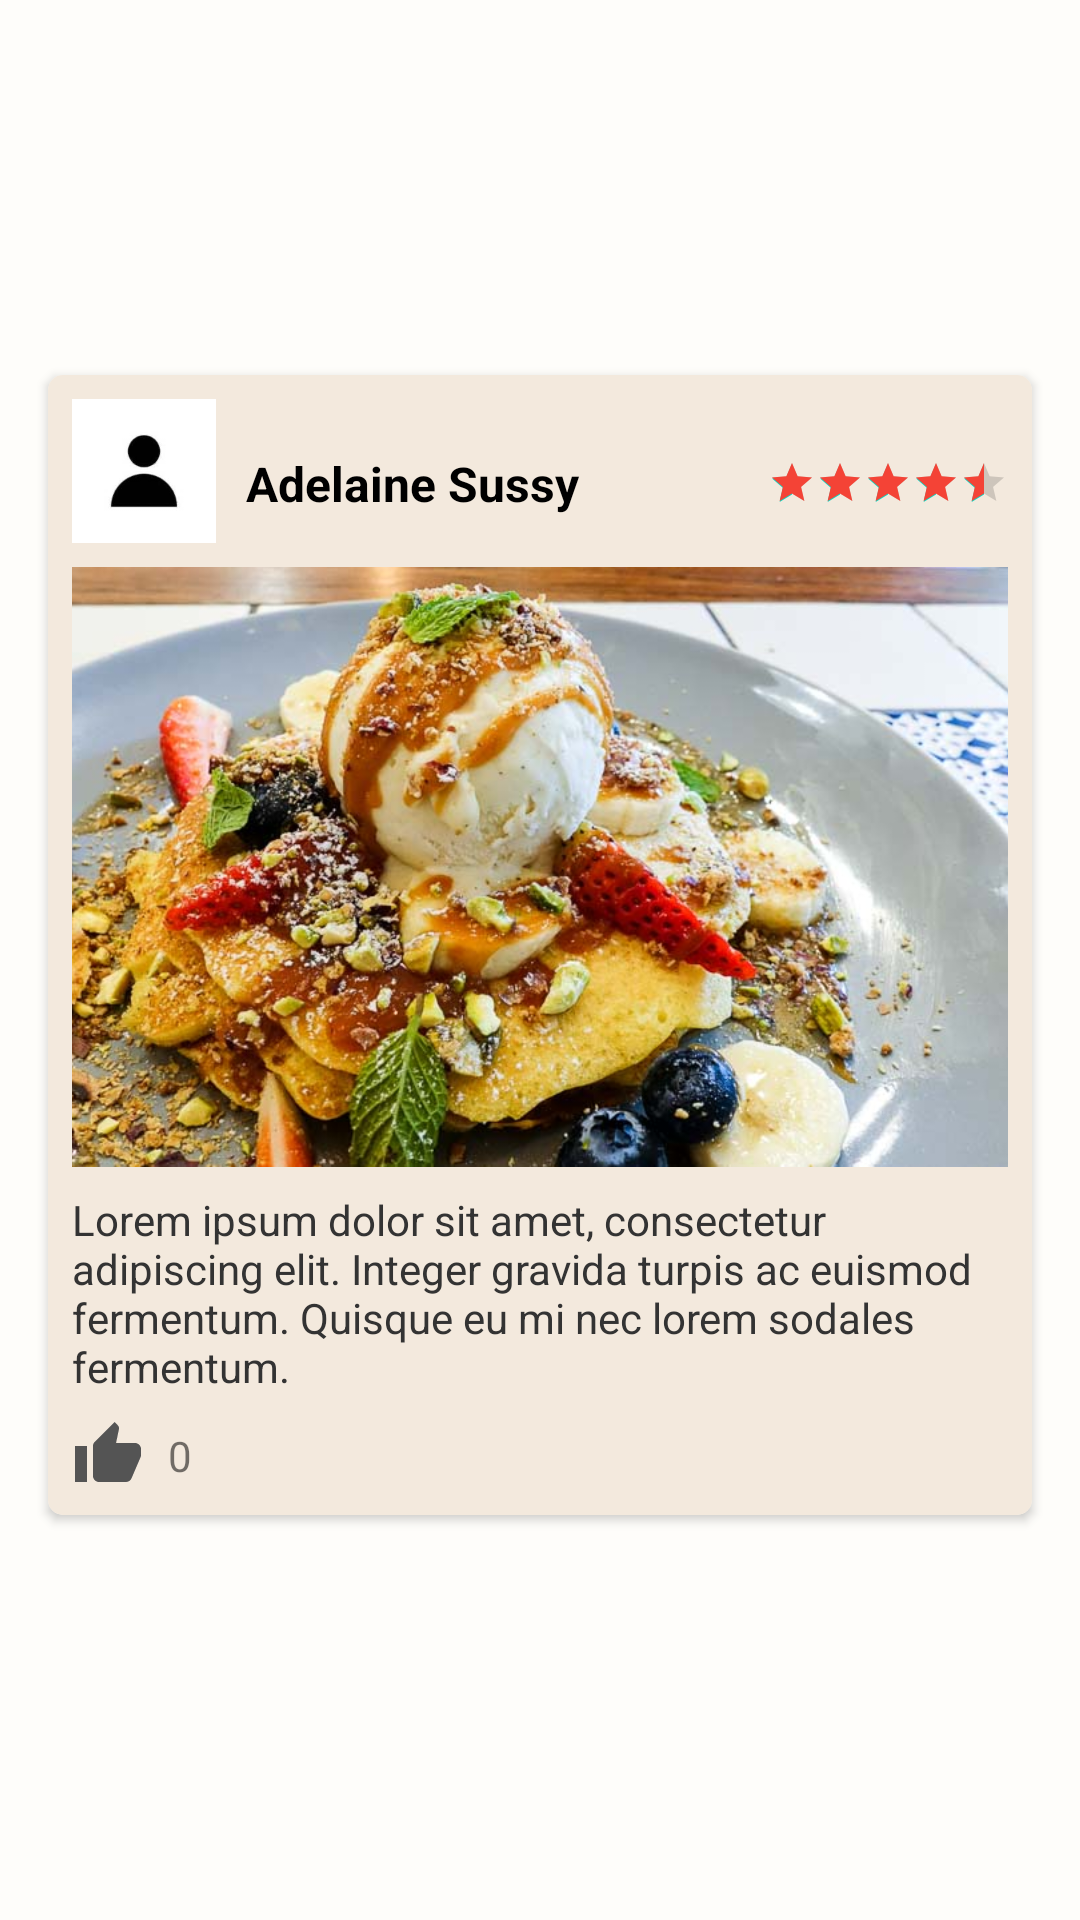

Screen size 1080 × 1920. Icon name, then its box in pixels as (x1, y1, x2, y2):
defaultuser: (72, 399, 216, 543)
like: (75, 1422, 141, 1482)
